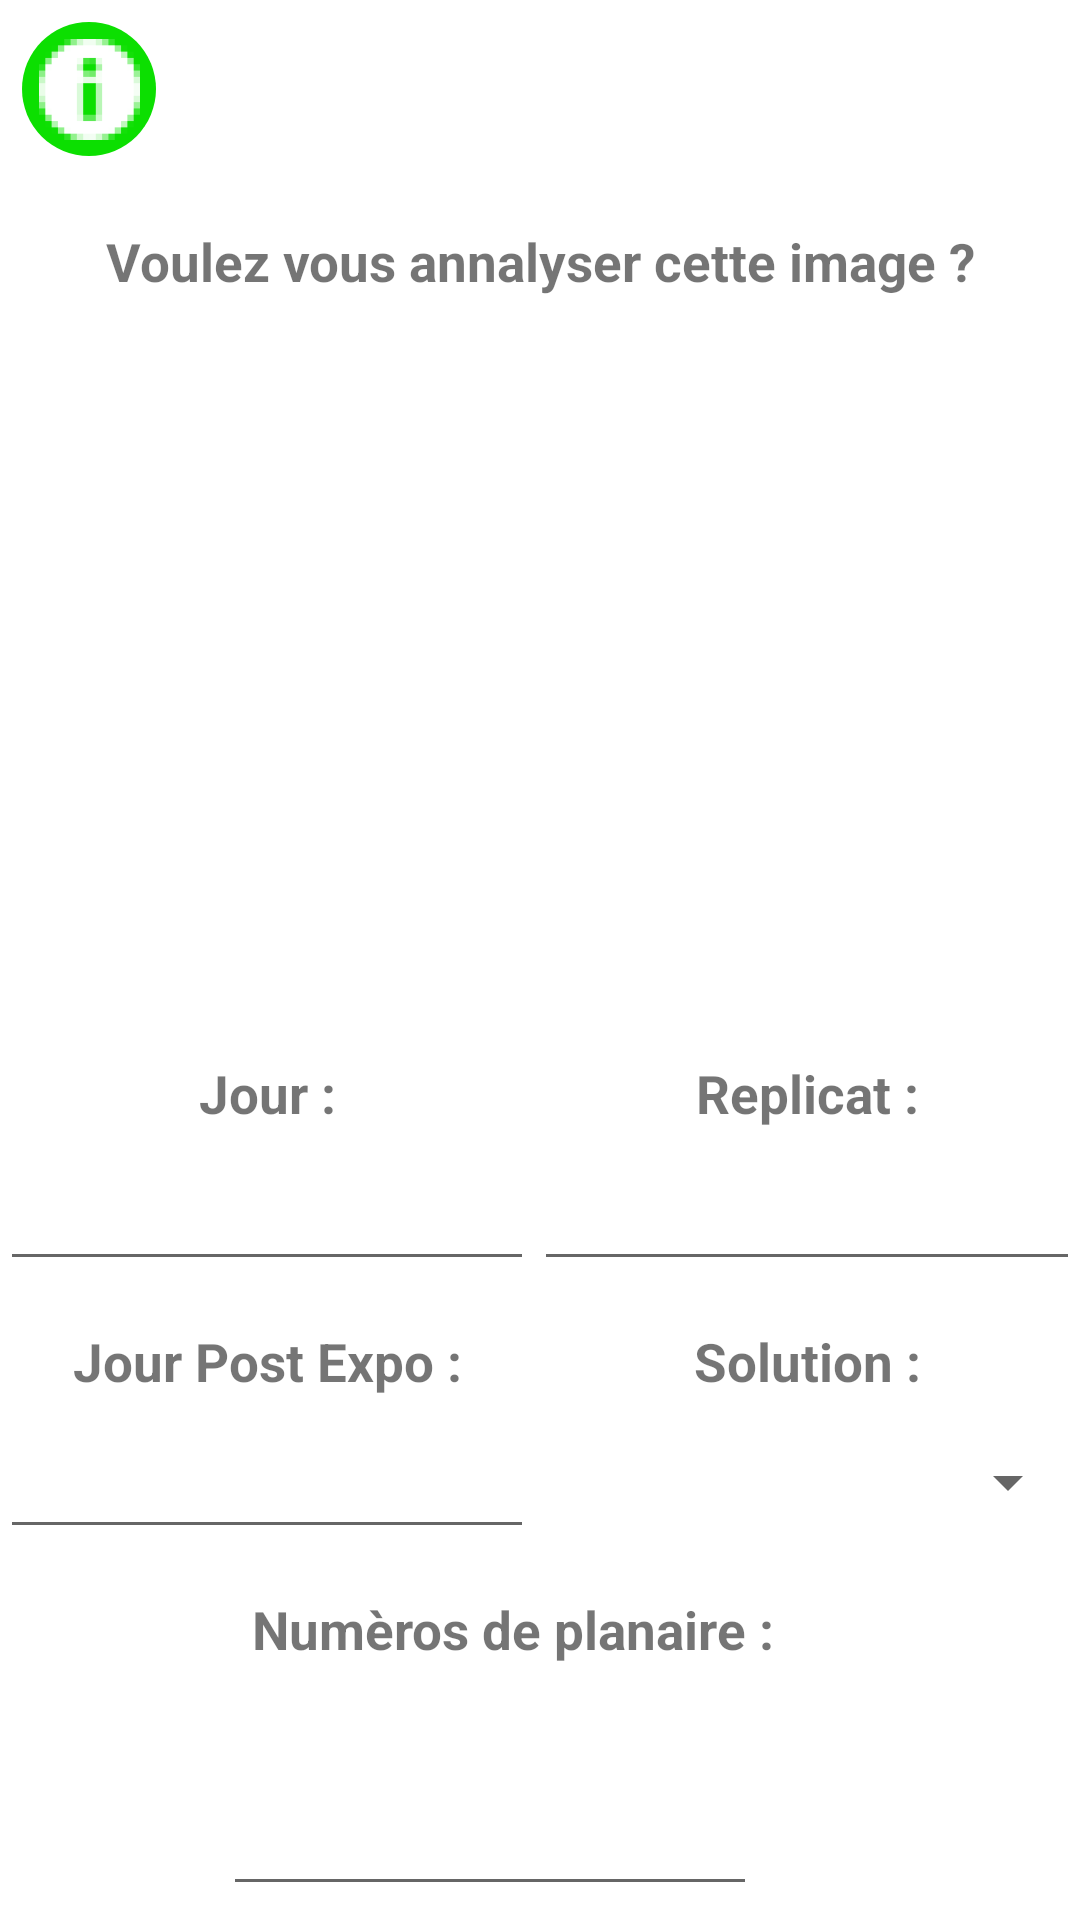

Where to tap for icons on this 1080×1920 app screen, as (x,y):
bouton information: (89,89)
